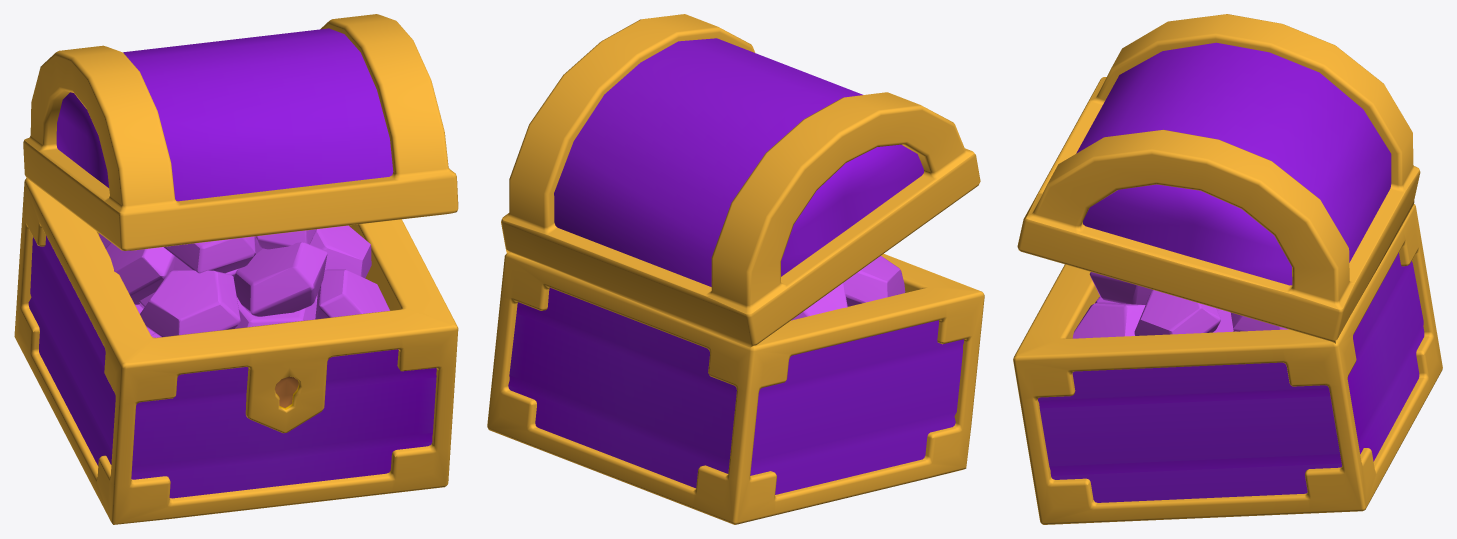
3 renders of one model, left to right at view 1: azimuth 30°, elevation 25°; view 2: azimuth 150°, elevation 25°; view 3: azimuth 270°, elevation 25°, orthographic. The views are drawn at different scales.
Visible parts, largest first — view 1: model_1.099; view 2: model_1.099; view 3: model_1.099.
Part boxes in pixels (<box>): model_1.099: <box>14,14,458,524</box>; model_1.099: <box>487,14,984,524</box>; model_1.099: <box>1013,14,1442,524</box>.
Size of the model in its own units: 5.04 by 5.27 by 5.27.
